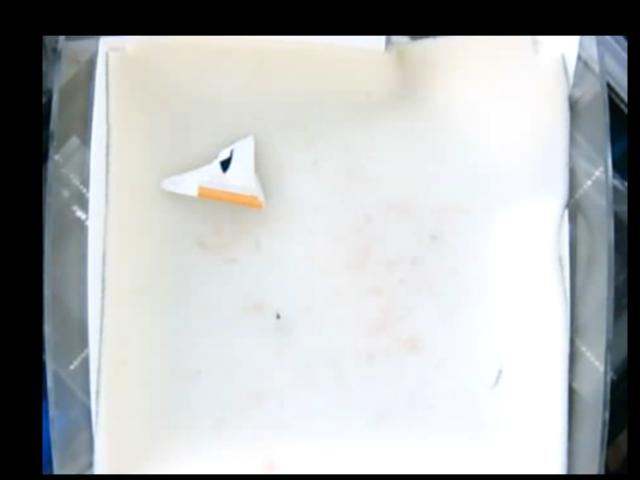China: (155, 134, 268, 206)
